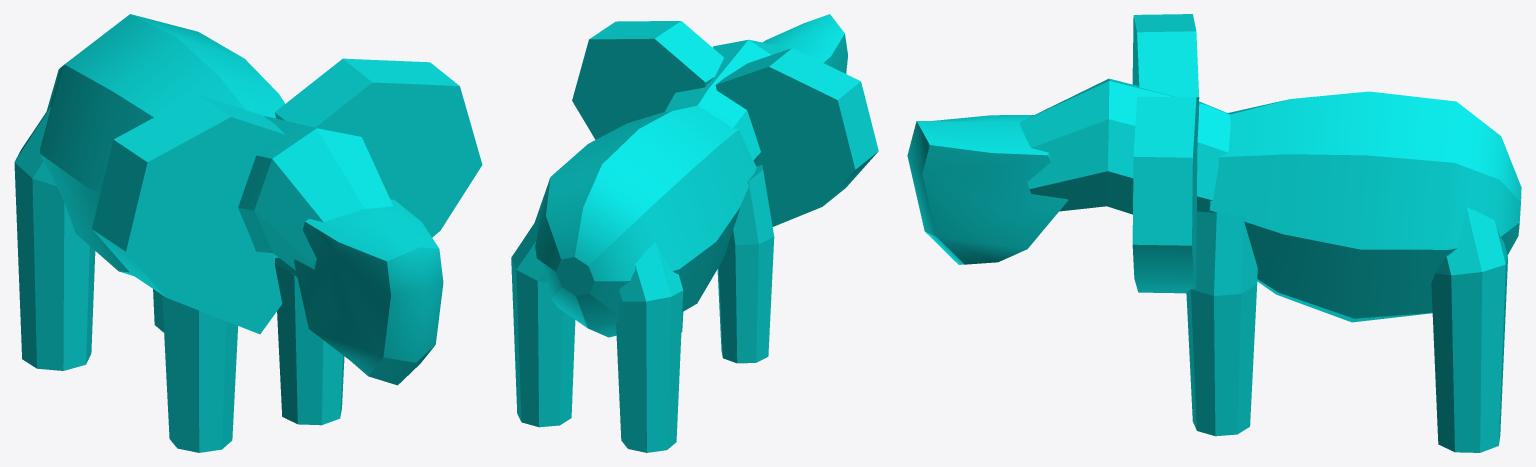
Rendered from SM_Env_Hedge_Topiary_03_Collision.fbx.
The picture shows the model from 3 angles, left to right: view 1: azimuth 30°, elevation 25°; view 2: azimuth 150°, elevation 25°; view 3: azimuth 270°, elevation 25°; orthographic projection. The views are drawn at different scales.
Parts seen in each view (by area): view 1: SM_Env_Hedge_Topiary_03_Collision; view 2: SM_Env_Hedge_Topiary_03_Collision; view 3: SM_Env_Hedge_Topiary_03_Collision.
Part boxes in pixels (left/top/right/bottom): SM_Env_Hedge_Topiary_03_Collision: left=14, top=14, right=482, bottom=452; SM_Env_Hedge_Topiary_03_Collision: left=511, top=14, right=878, bottom=452; SM_Env_Hedge_Topiary_03_Collision: left=907, top=14, right=1521, bottom=452.
Size of the model in its own units: 417 by 410 by 660.
